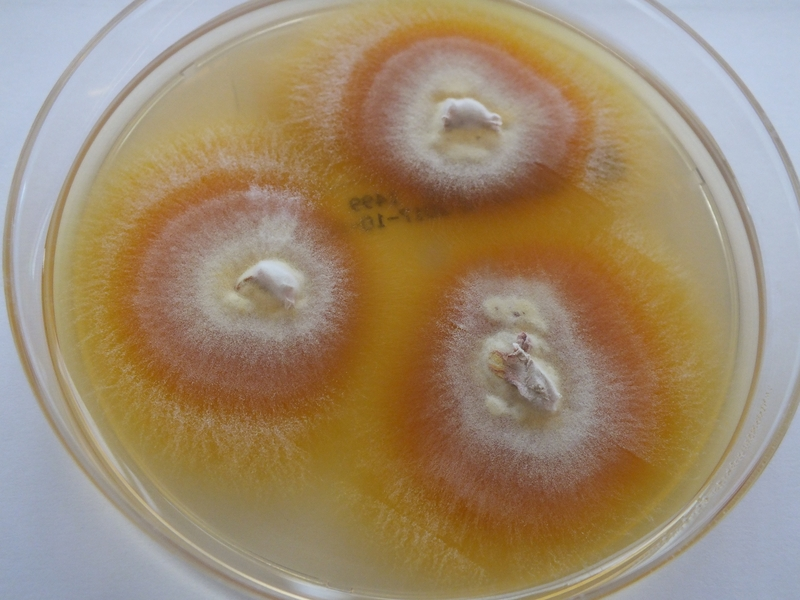Trichophyton: (132, 197, 335, 388), (337, 30, 540, 169), (460, 287, 571, 442)
